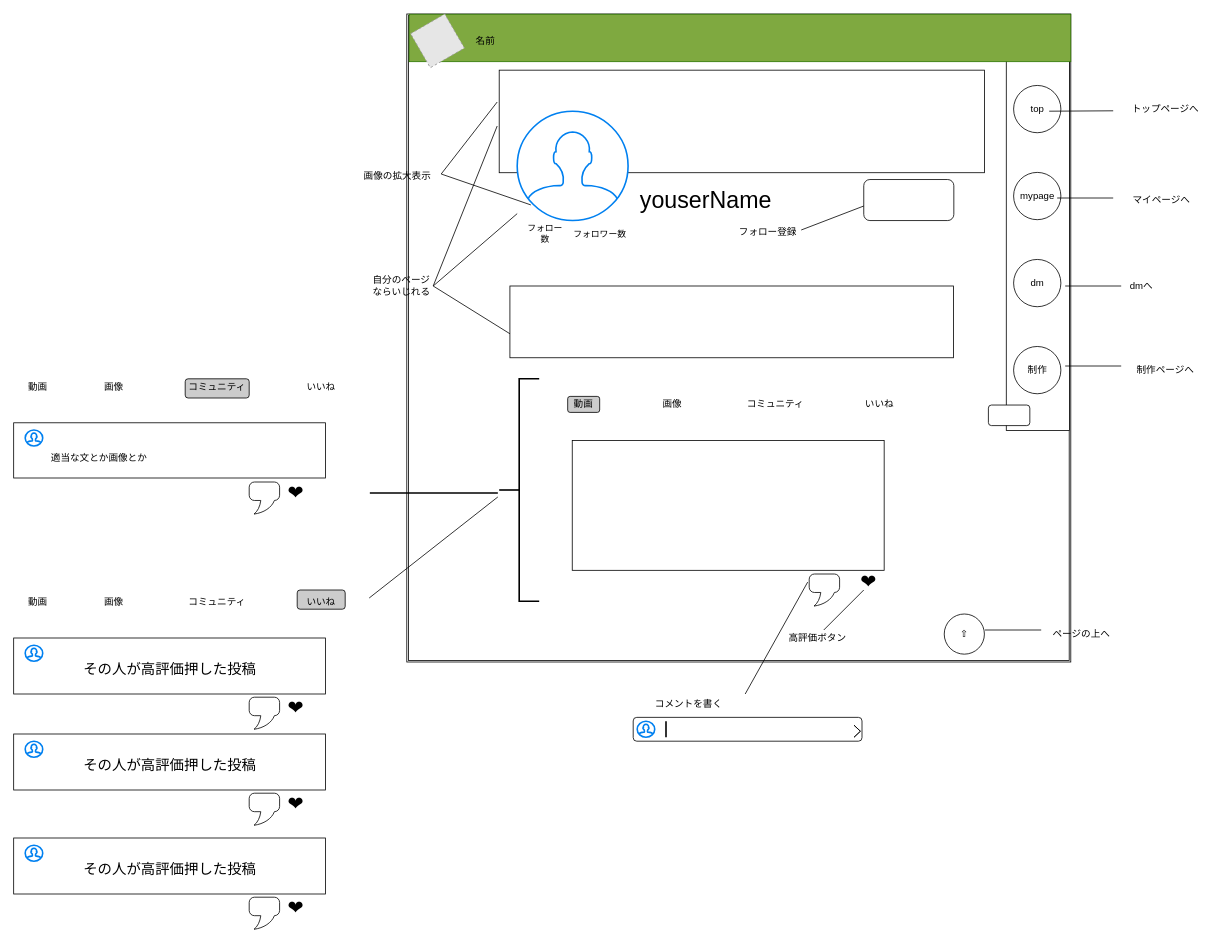
This 1223x944 diagram has some shape labels left out. Grey dashed boxes stand in for pictures. Here are the shapes that lost their labels. From the top down, the centre of each, then its label:
At point 908,200: "フォロー".
At point 731,321: "自己紹介文".
At point 727,505: "サムネイル".
